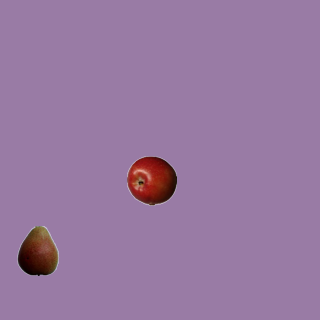Apple Braeburn: (126, 155, 176, 205)
Pear Forelle: (12, 225, 62, 275)
